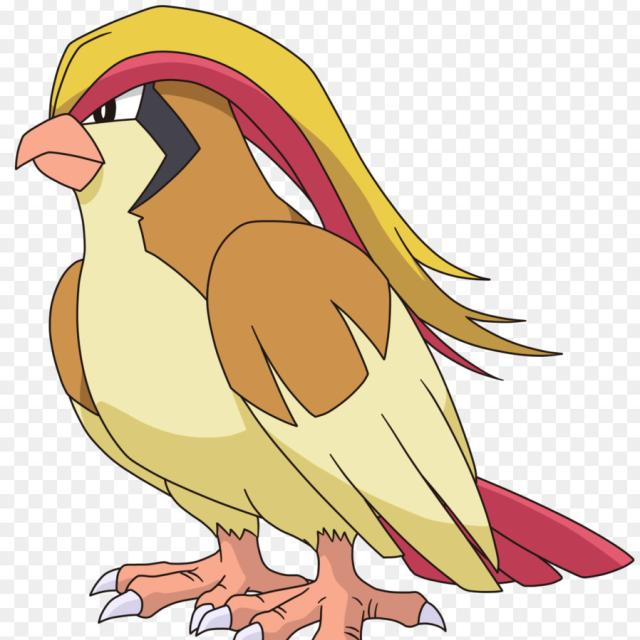Pidgeot: (41, 11, 518, 624)
